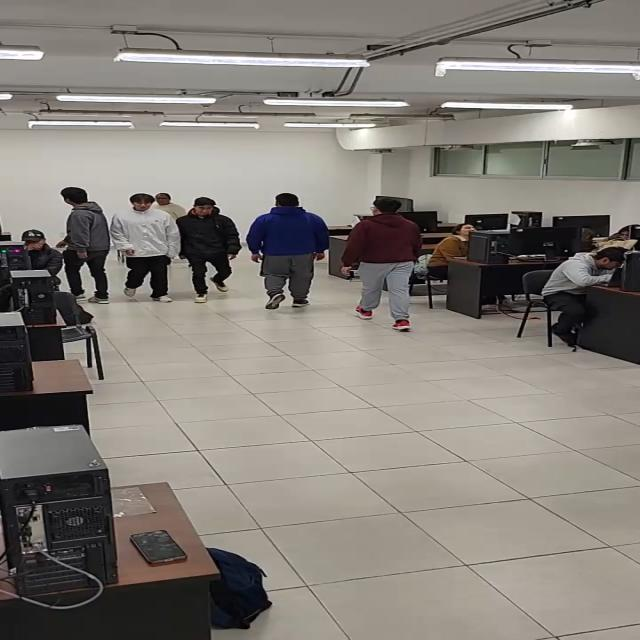Persona: (340, 197, 422, 331), (246, 193, 330, 309), (110, 193, 182, 303), (176, 197, 242, 304), (56, 186, 111, 304)
